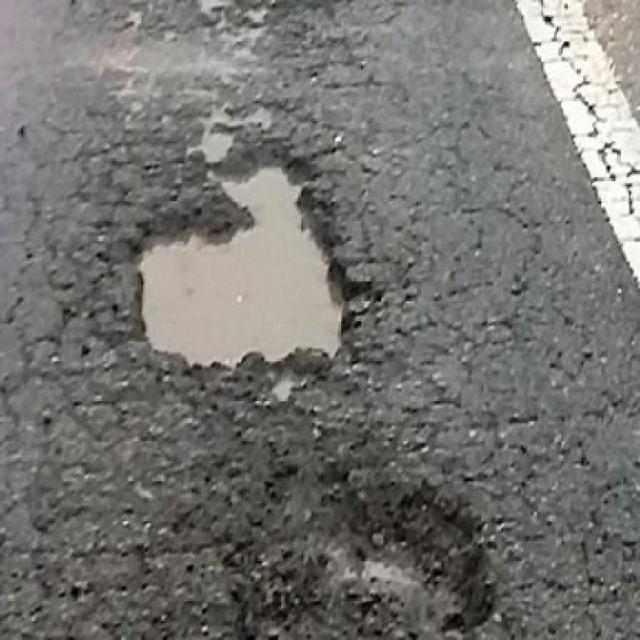Pothole: (124, 132, 359, 372), (258, 460, 500, 638)
